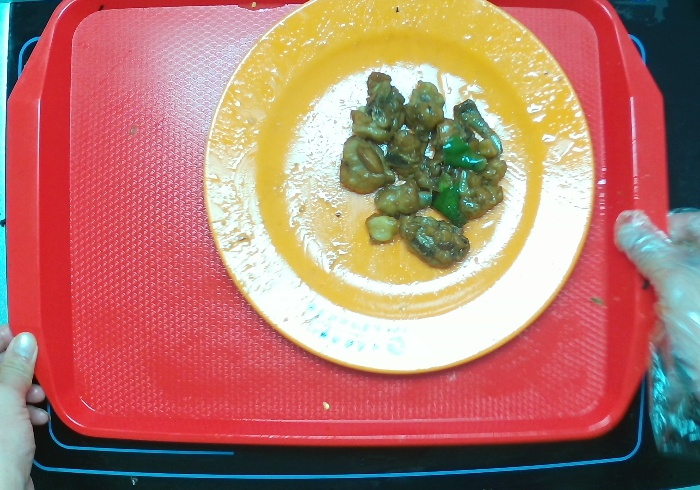YKMZ-Ju_Se_Mian_Pan: (200, 1, 598, 377)
